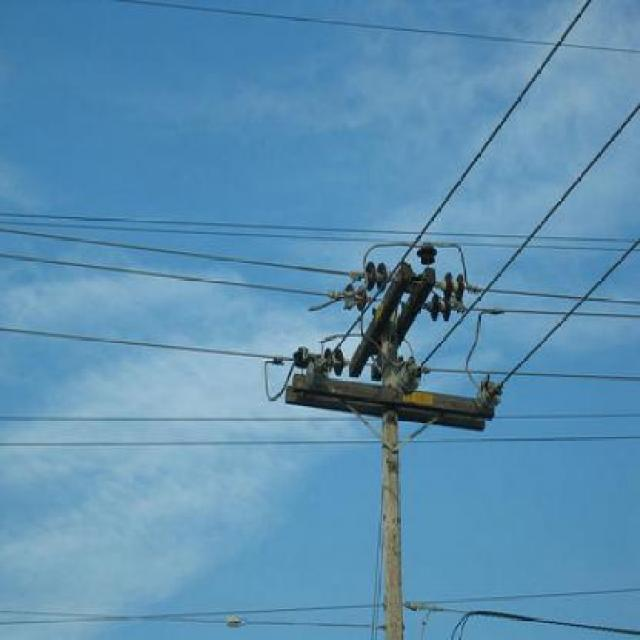pole: (266, 263, 500, 640)
